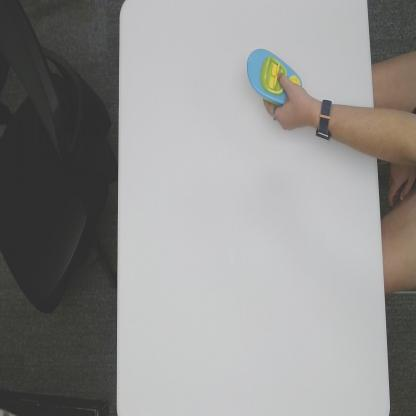Arm: (334, 103, 377, 158)
Boat: (246, 46, 303, 106)
Hand: (264, 72, 313, 131)
